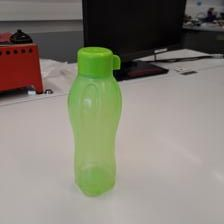bottle: (65, 45, 122, 201)
